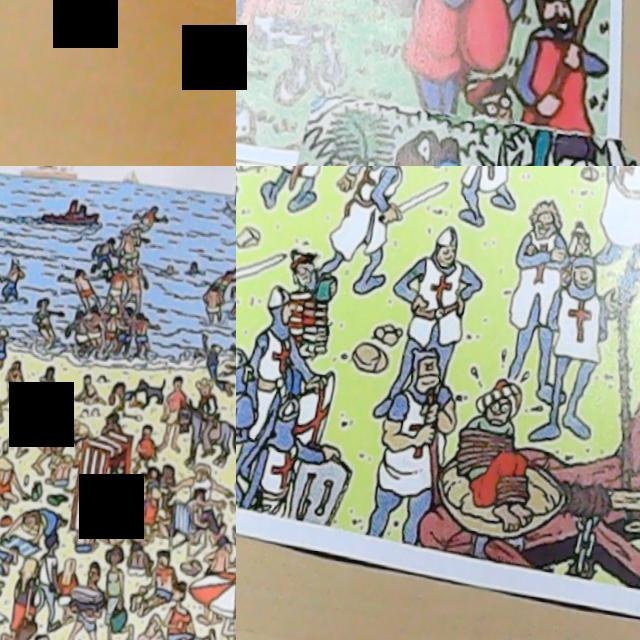waldo: (459, 66, 522, 123), (289, 243, 325, 294)
